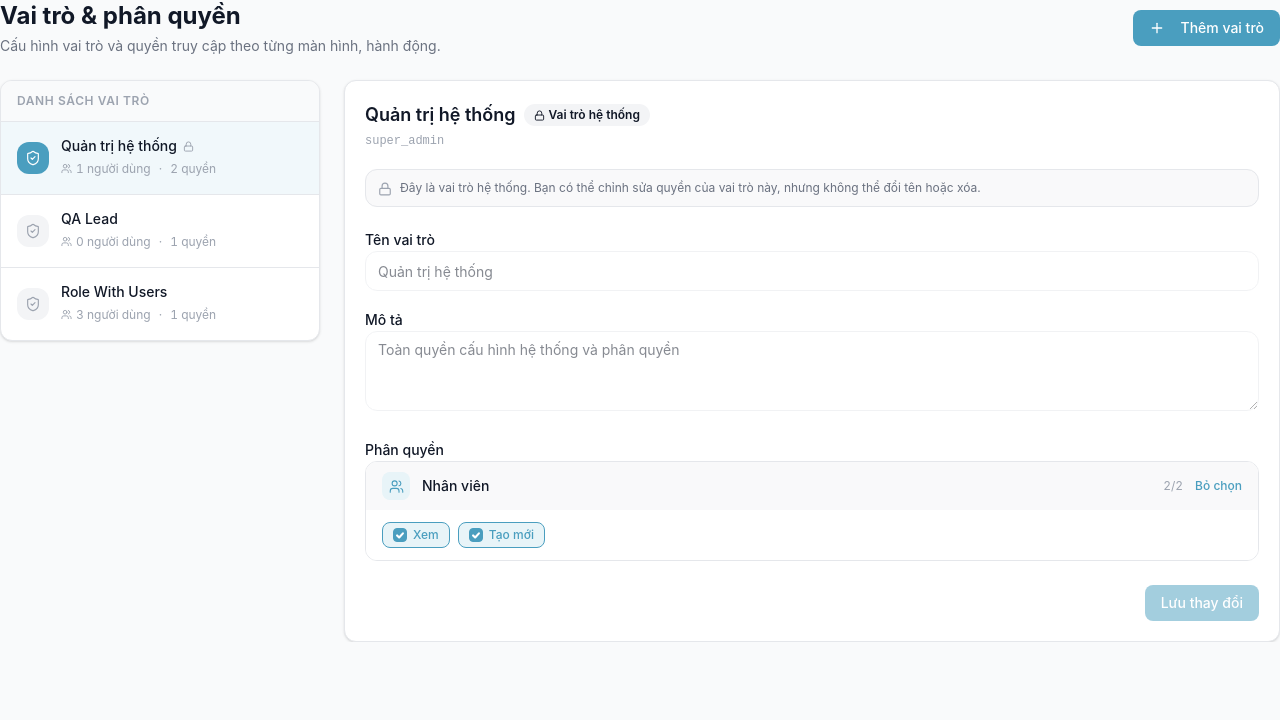
Scenario: RolesPage › blocks deletion when the role still has users assigned
Click the text "Role With Users": (114,292) [61,282,167,302]
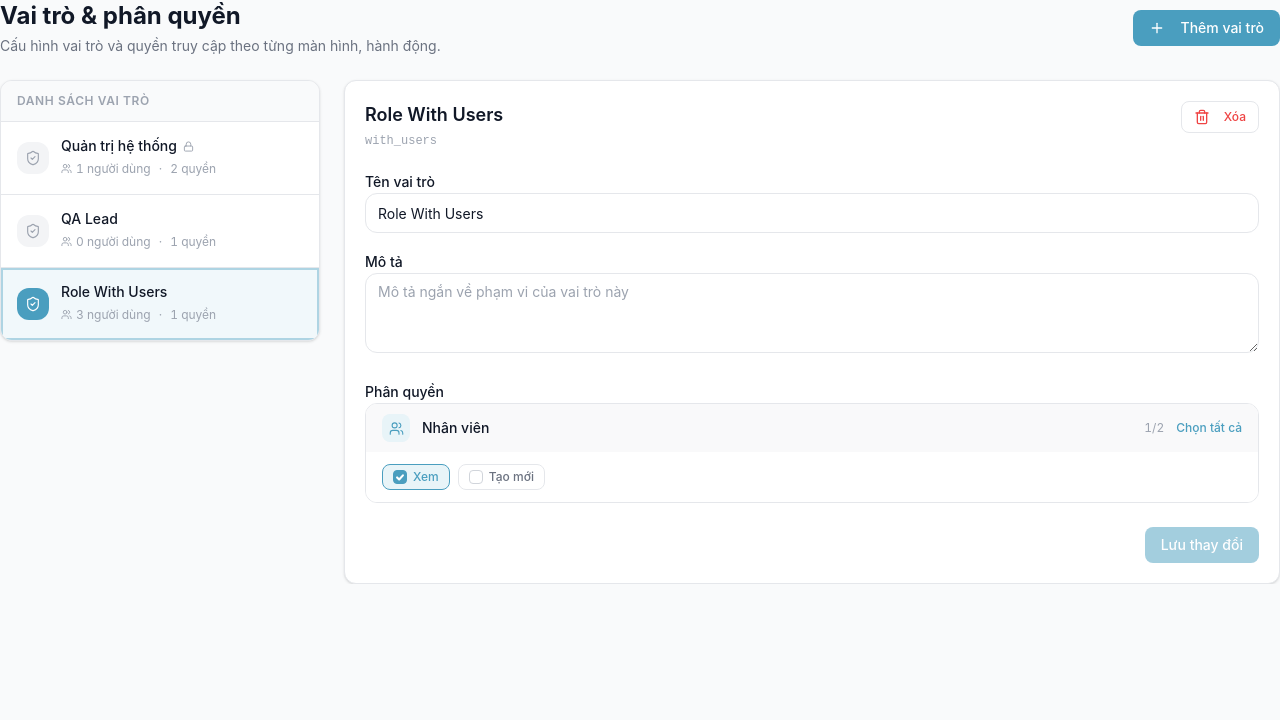
Click the button "Xóa": (1220,117) [1181,101,1259,133]
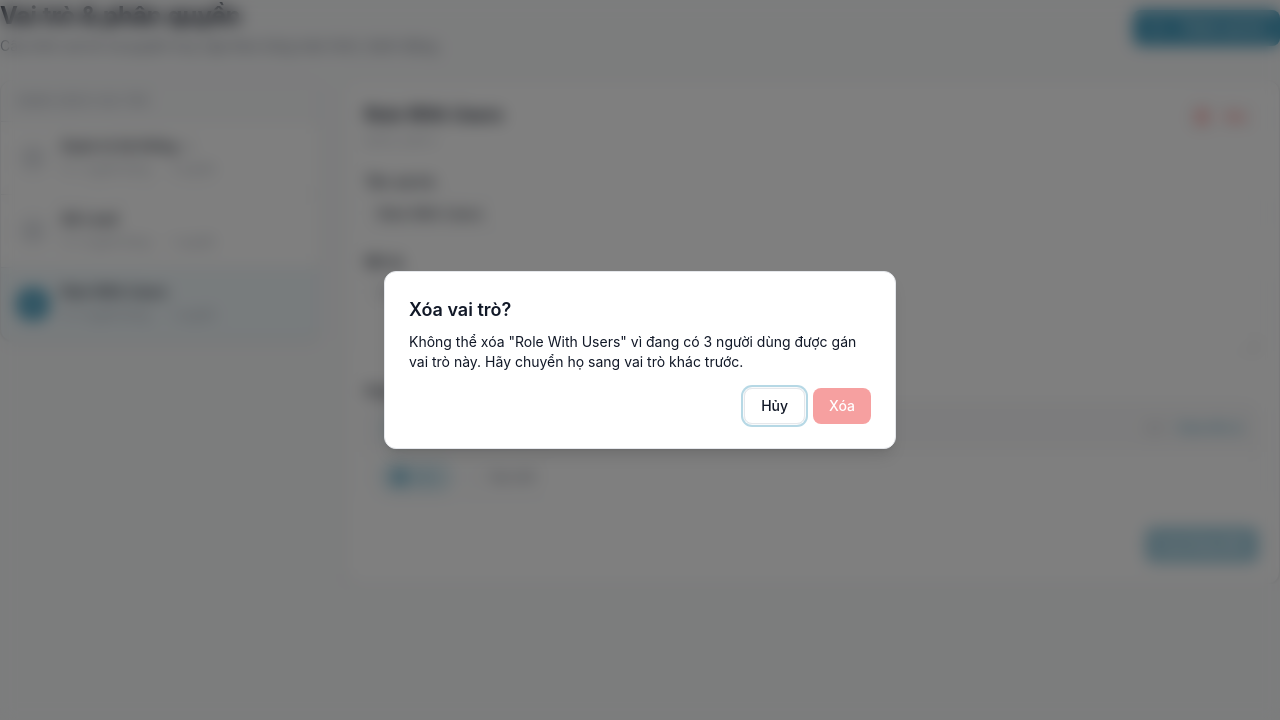
Now the heading "Xóa vai trò?" is shown, box [409,299,511,320]
Now the text "đang có 3 người dùng" is shown, box [409,333,856,370]
